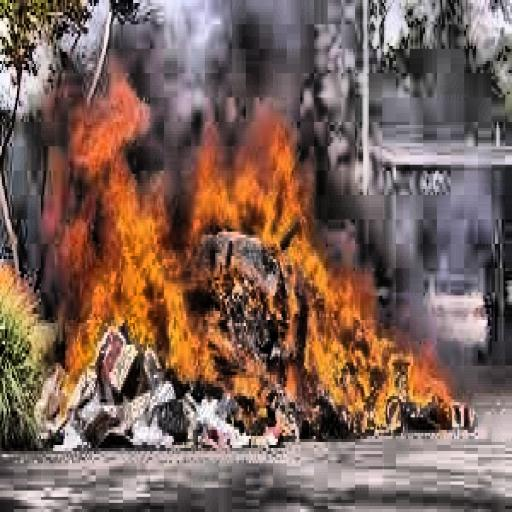fire: (210, 94, 464, 426), (44, 101, 202, 384)
